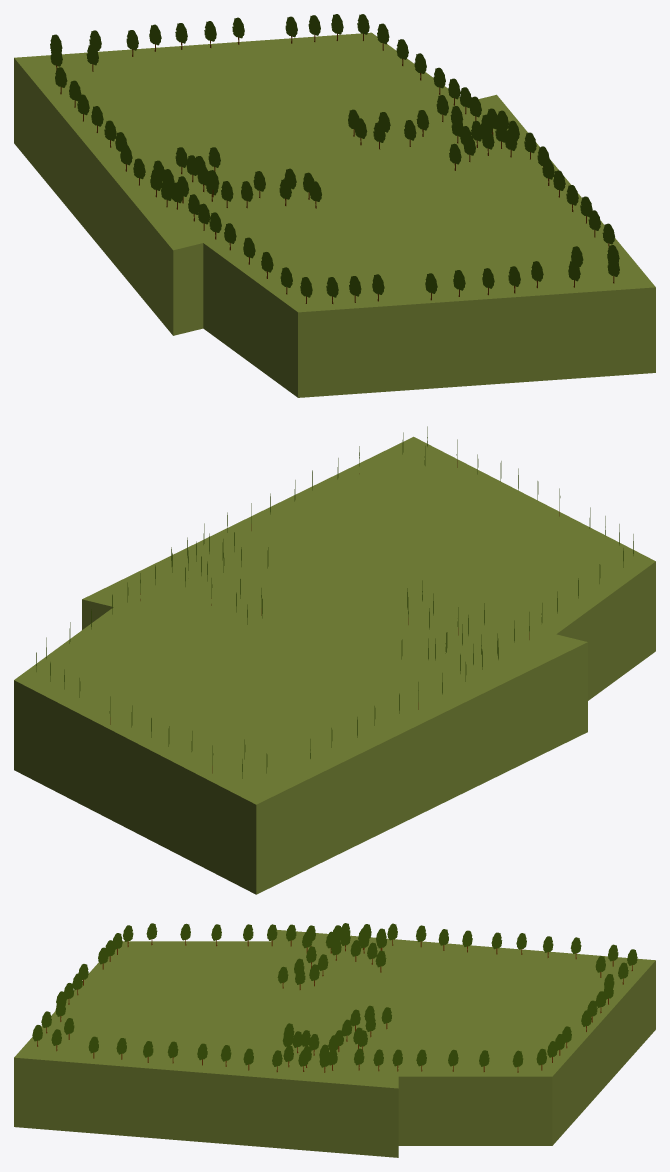
File: Buitenbox 1.fbx
The picture shows the model from 3 angles, top to bottom: view 1: azimuth 30°, elevation 25°; view 2: azimuth 150°, elevation 25°; view 3: azimuth 270°, elevation 25°; orthographic projection. The views are drawn at different scales.
Visible parts, largest first — view 1: Model; view 2: Model; view 3: Model.
Part boxes in pixels (x1,y1,x2,y2): Model: (14, 14, 655, 397); Model: (14, 426, 655, 894); Model: (14, 923, 655, 1157).
Bounding box in the file's own units: 121952 × 34803 × 207860.
